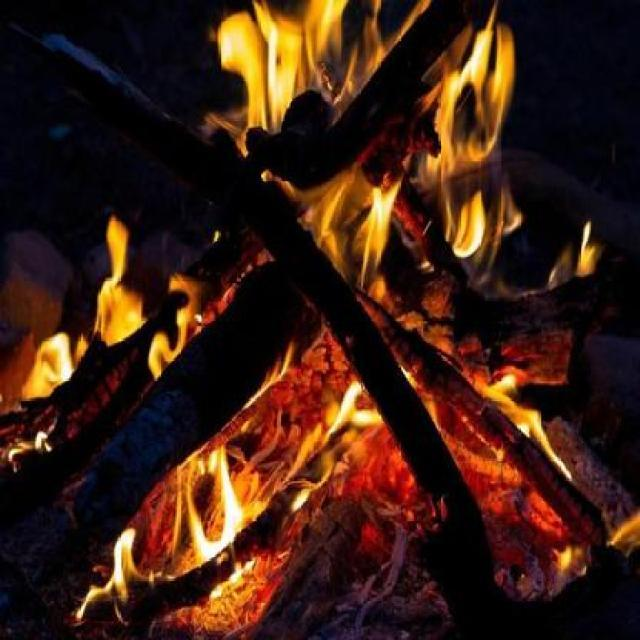Fire: (276, 310, 638, 638), (212, 7, 523, 298), (10, 210, 205, 456), (72, 458, 260, 636), (210, 372, 272, 449), (566, 214, 604, 279)
